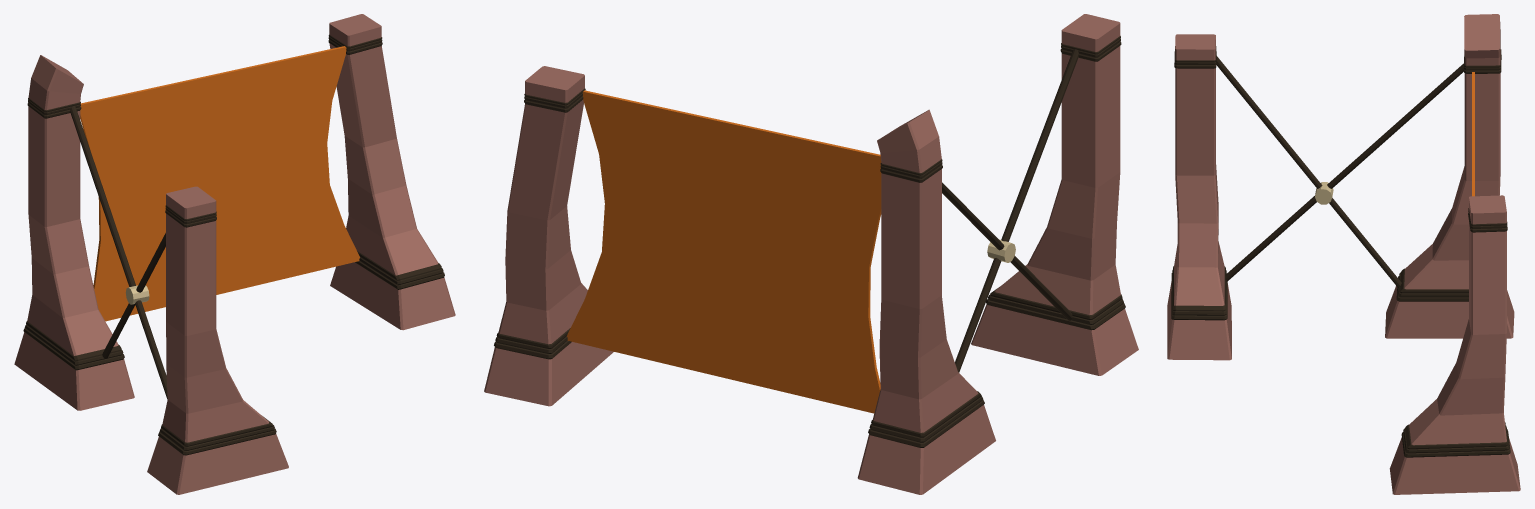
The model's file is SM_colonna_teli_arancione.fbx.
3 views of the same model, side by side, from view 1: azimuth 30°, elevation 25°; view 2: azimuth 150°, elevation 25°; view 3: azimuth 270°, elevation 25° (orthographic). The views are drawn at different scales.
Visible parts, largest first — view 1: pPlane10; view 2: pPlane10; view 3: pPlane10.
Boxes of the visible parts, x1=… form: pPlane10: x1=14, y1=14, x2=455, y2=494; pPlane10: x1=484, y1=14, x2=1138, y2=494; pPlane10: x1=1167, y1=14, x2=1520, y2=494.
Size of the model in its own units: 855 by 645 by 674.
